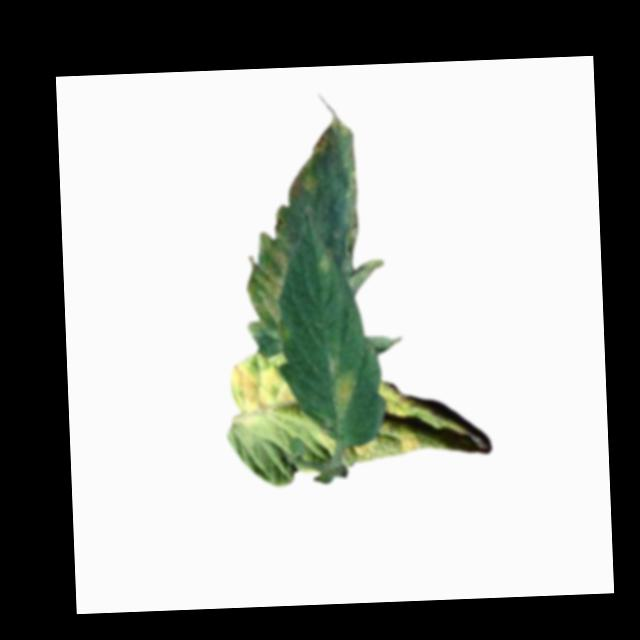Leaf_Mold: (343, 381, 471, 464), (243, 234, 293, 345), (228, 352, 293, 420), (286, 163, 319, 208), (330, 370, 356, 420), (311, 125, 336, 156)
